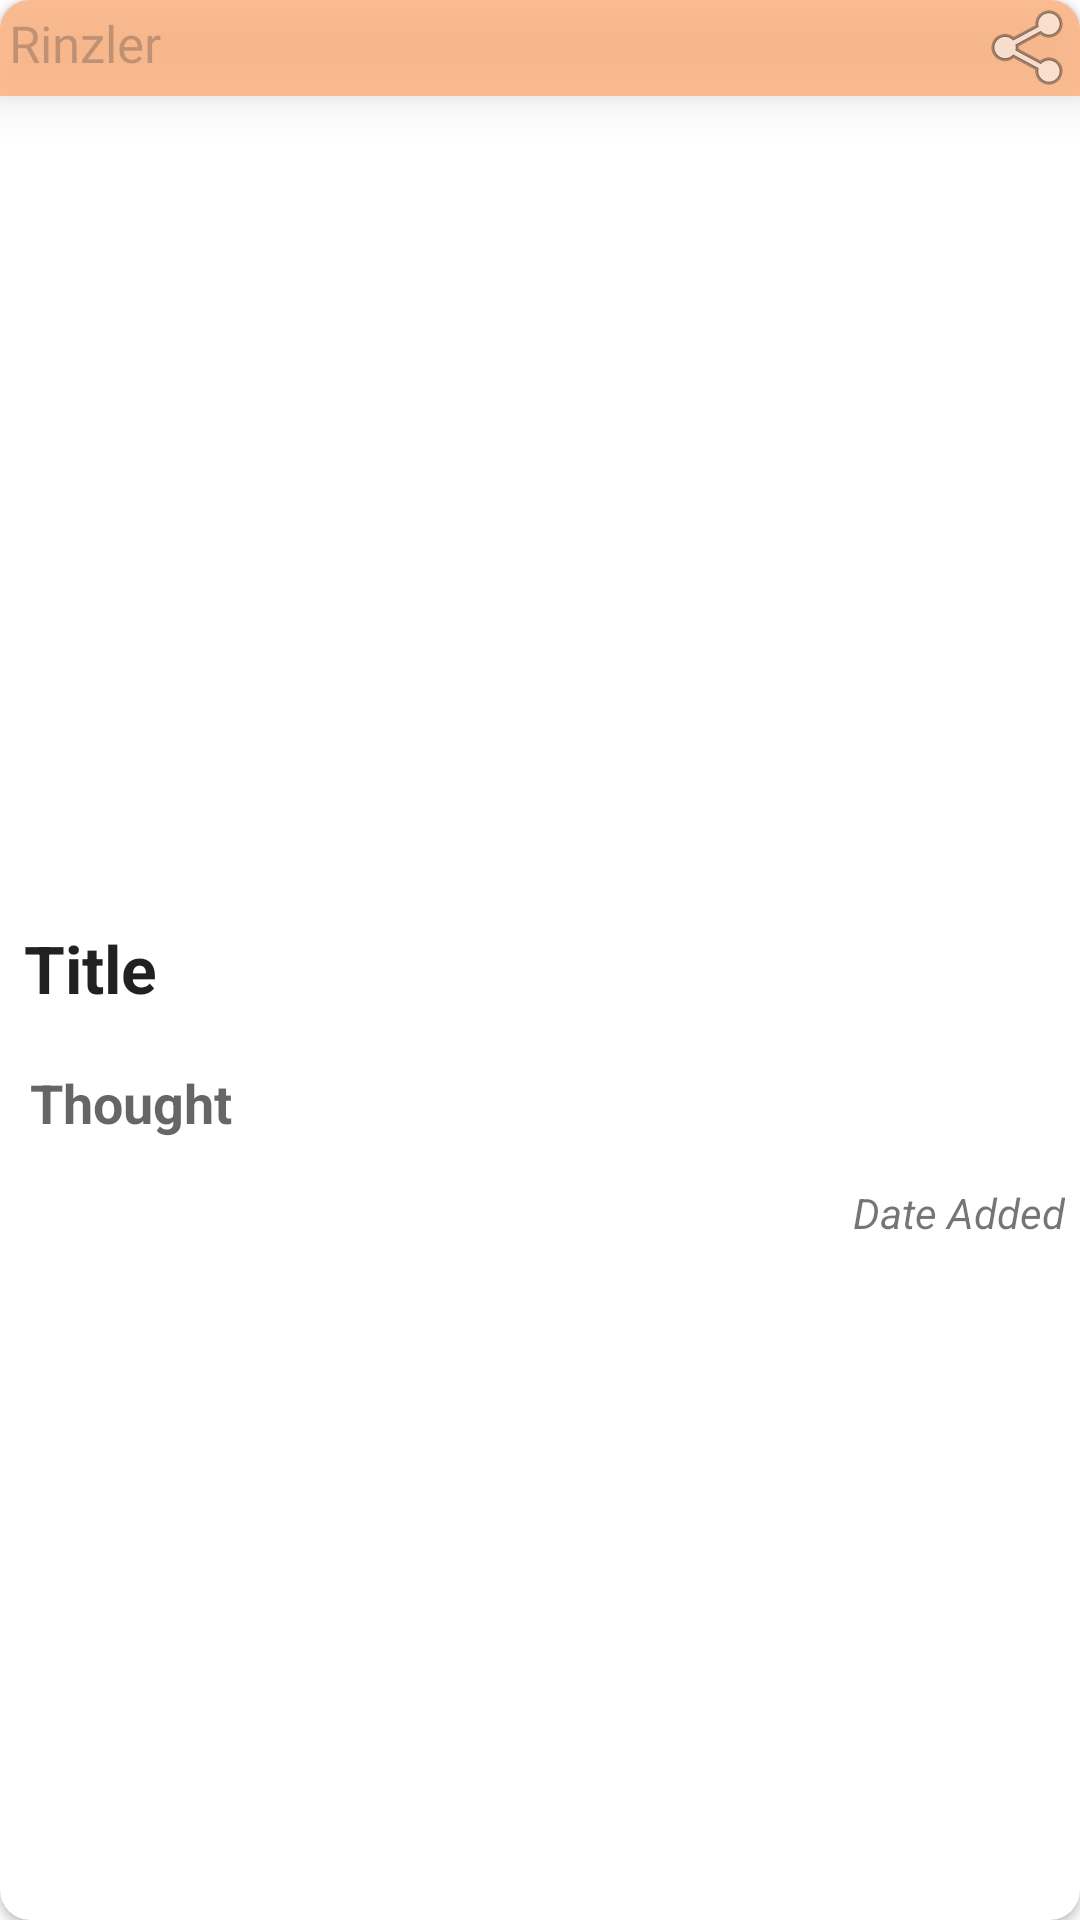

Icon click points for this 1080x1920 phone screenshot, format (x=x, y=y):
share: (x=1032, y=48)
